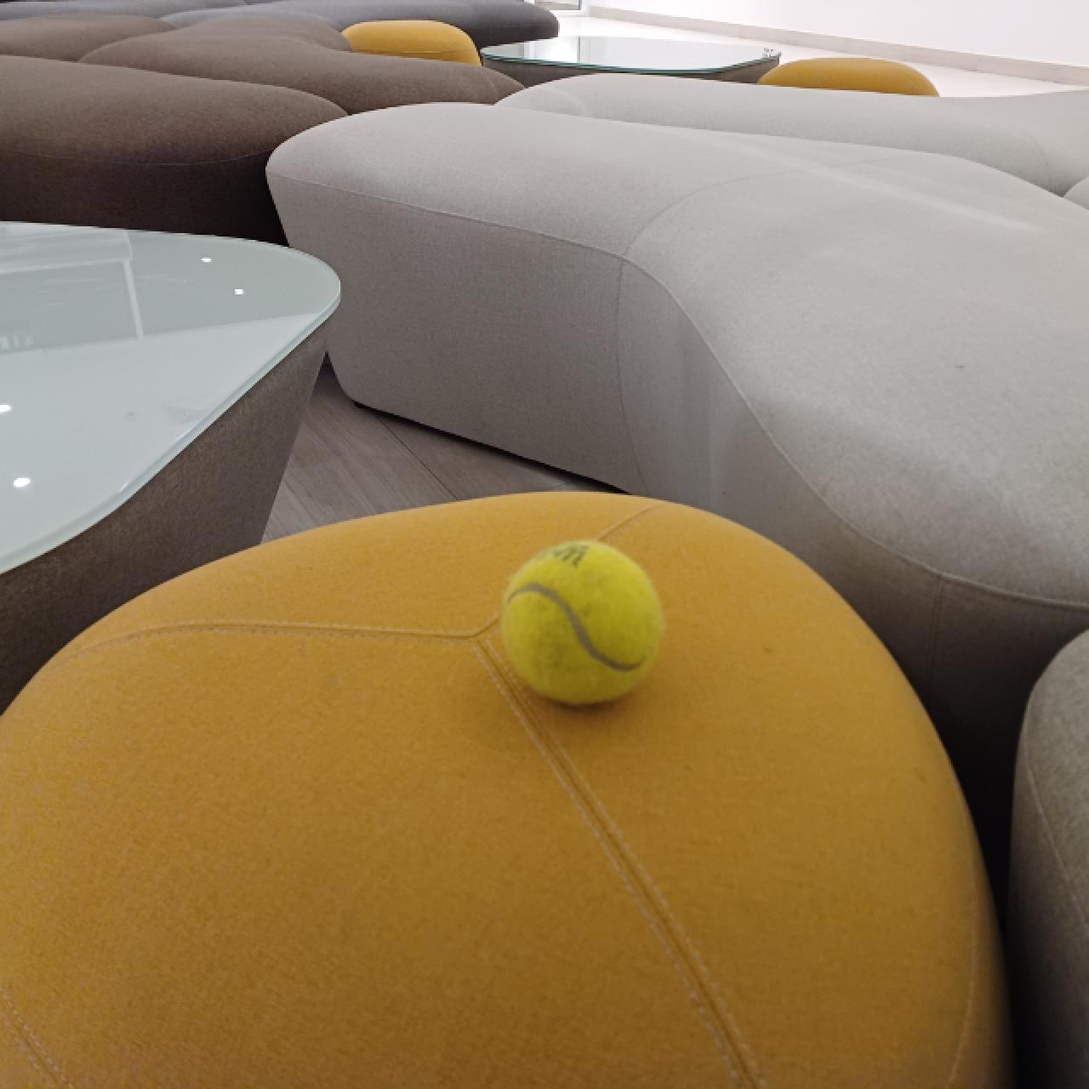tennis-ball: (501, 537, 665, 709)
